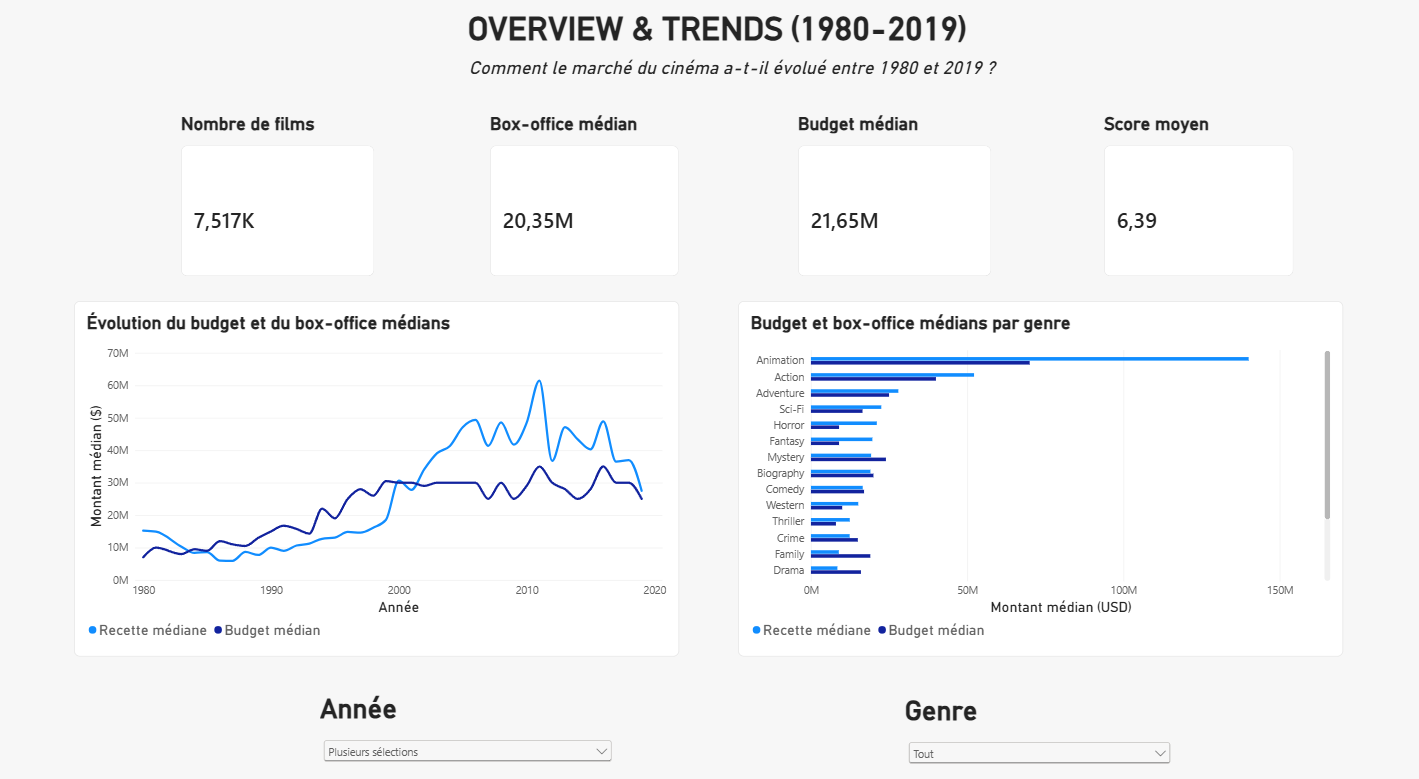

This screenshot's page, from the dashboard's own definition file:
{"tool":"powerbi","page":{"name":"Overview & Trends","canvas":[1920,1080],"ordinal":0},"visuals":[{"type":"lineChart","title":"Évolution du budget et du box-office médians","fields":{"Category":["movies_clean.year"],"Y":["movies_clean.Recette_Médiane","movies_clean.Budget_median"]},"box":[122.5,410,805,472.5],"z":0},{"type":"cardVisual","title":"Nombre de films","fields":{"Data":["movies_clean.Nombre de films"]},"box":[265,160,257.5,217.5],"z":1000},{"type":"cardVisual","title":"Box-office médian","fields":{"Data":["movies_clean.Recette_Médiane"]},"box":[675,160,251.3,217.4],"z":2000},{"type":"cardVisual","title":"Budget médian","fields":{"Data":["movies_clean.Budget_median"]},"box":[1085,160,257.5,217.5],"z":3000},{"type":"cardVisual","title":"Score moyen","fields":{"Data":["movies_clean.Score_moyen"]},"box":[1492.5,160,252.5,217.5],"z":4000},{"type":"textbox","box":[646.6,22.6,759.5,79.1],"z":5000},{"type":"clusteredBarChart","title":"Budget et box-office médians par genre","fields":{"Category":["movies_clean.genre"],"Y":["movies_clean.Recette_Médiane","movies_clean.Budget_median"]},"box":[1005,410,805,472.5],"z":6000},{"type":"slicer","title":"Année","fields":{"Values":["movies_clean.year"]},"box":[450,930,392.5,130],"z":7000},{"type":"slicer","title":"Genre","fields":{"Values":["movies_clean.genre"]},"box":[1227.5,932.5,357.5,127.5],"z":8000},{"type":"textbox","box":[647.5,85,1272.5,217.5],"z":8001}]}

Visuals, with their boxes in screenshot pixels (x1, y1, x2, y2), scaled from the page's 1920x1080 canvas onto the 1419x779 screenshot:
"Évolution du budget et du box-office médians" lineChart: [left=91, top=296, right=685, bottom=637]
"Nombre de films" cardVisual: [left=196, top=115, right=386, bottom=272]
"Box-office médian" cardVisual: [left=499, top=115, right=685, bottom=272]
"Budget médian" cardVisual: [left=802, top=115, right=992, bottom=272]
"Score moyen" cardVisual: [left=1103, top=115, right=1290, bottom=272]
textbox: [left=478, top=16, right=1039, bottom=73]
"Budget et box-office médians par genre" clusteredBarChart: [left=743, top=296, right=1338, bottom=637]
"Année" slicer: [left=333, top=671, right=623, bottom=765]
"Genre" slicer: [left=907, top=673, right=1171, bottom=765]
textbox: [left=479, top=61, right=1418, bottom=218]
